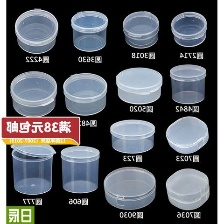plastic_box: (8, 139, 58, 199), (101, 163, 160, 211), (12, 3, 63, 56), (8, 67, 61, 118), (56, 140, 103, 196), (60, 68, 111, 119), (163, 164, 213, 213), (111, 63, 166, 106), (162, 111, 212, 157), (106, 114, 159, 156), (67, 6, 113, 54), (167, 59, 211, 106), (119, 6, 163, 51), (168, 7, 211, 49)
